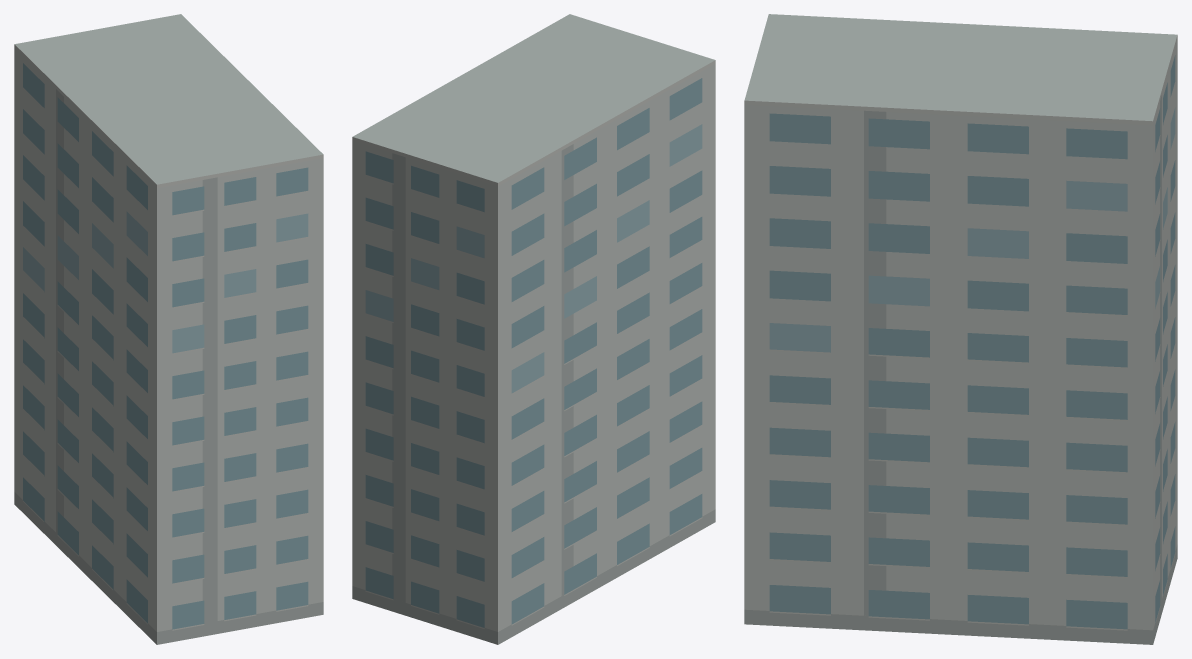
Rendered from residential-fe790f54-3ad3-4c09-9b0f-165d9be445c1.glb.
3 renders of one model, left to right at view 1: azimuth 30°, elevation 25°; view 2: azimuth 150°, elevation 25°; view 3: azimuth 270°, elevation 25°, orthographic. The views are drawn at different scales.
Visible parts, largest first — view 1: residential-fe790f54-3ad3-4c09-9b0f-165d9be445c1.tmp; view 2: residential-fe790f54-3ad3-4c09-9b0f-165d9be445c1.tmp; view 3: residential-fe790f54-3ad3-4c09-9b0f-165d9be445c1.tmp.
Part boxes in pixels (left/top/right/bottom): residential-fe790f54-3ad3-4c09-9b0f-165d9be445c1.tmp: left=14, top=14, right=323, bottom=644; residential-fe790f54-3ad3-4c09-9b0f-165d9be445c1.tmp: left=352, top=14, right=715, bottom=644; residential-fe790f54-3ad3-4c09-9b0f-165d9be445c1.tmp: left=744, top=14, right=1177, bottom=644.
Size of the model in its own units: 13.62 by 31 by 23.24.
